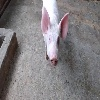heo: (38, 5, 70, 67)
